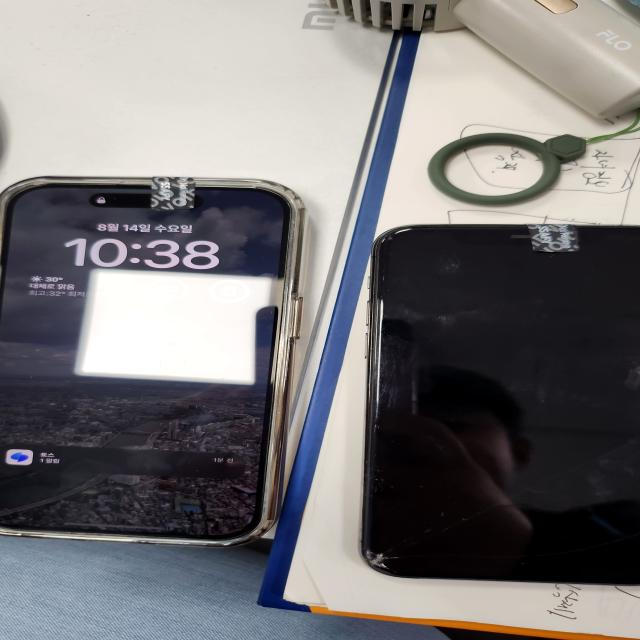phone: (0, 170, 307, 549), (361, 223, 640, 587)
removed_sticker: (150, 176, 195, 212), (528, 224, 580, 252)
